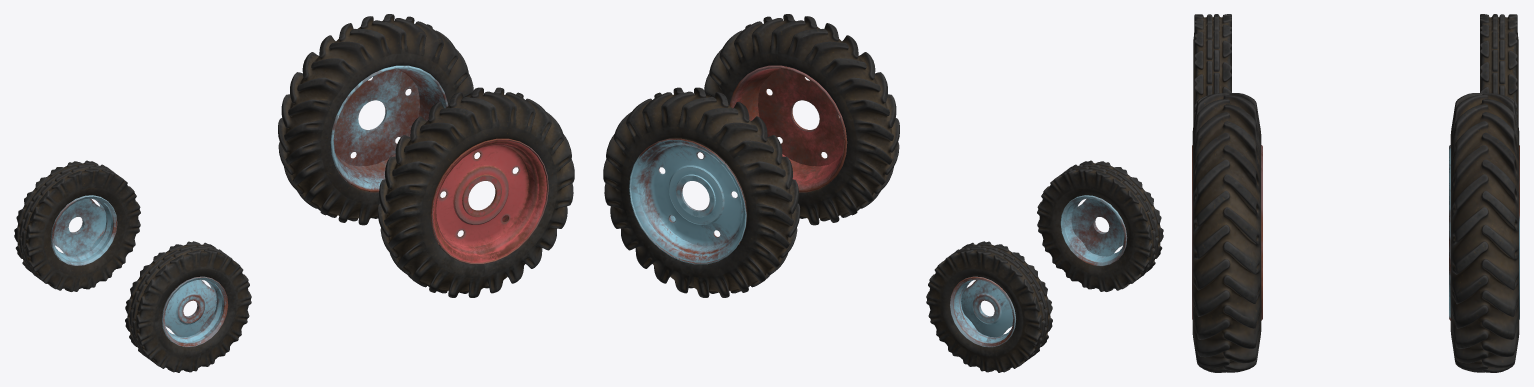
File: Tractor_mtz_wheels.obj
3 views of the same model, side by side, from view 1: azimuth 30°, elevation 25°; view 2: azimuth 150°, elevation 25°; view 3: azimuth 270°, elevation 25° (orthographic). The views are drawn at different scales.
Visible parts, largest first — view 1: Wheels; view 2: Wheels; view 3: Wheels.
Part boxes in pixels (x1,y1,x2,y2): Wheels: [14, 14, 574, 372]; Wheels: [603, 14, 1163, 372]; Wheels: [1192, 14, 1519, 372].
Bounding box in the file's own units: 3.89 × 1.67 × 1.93.
